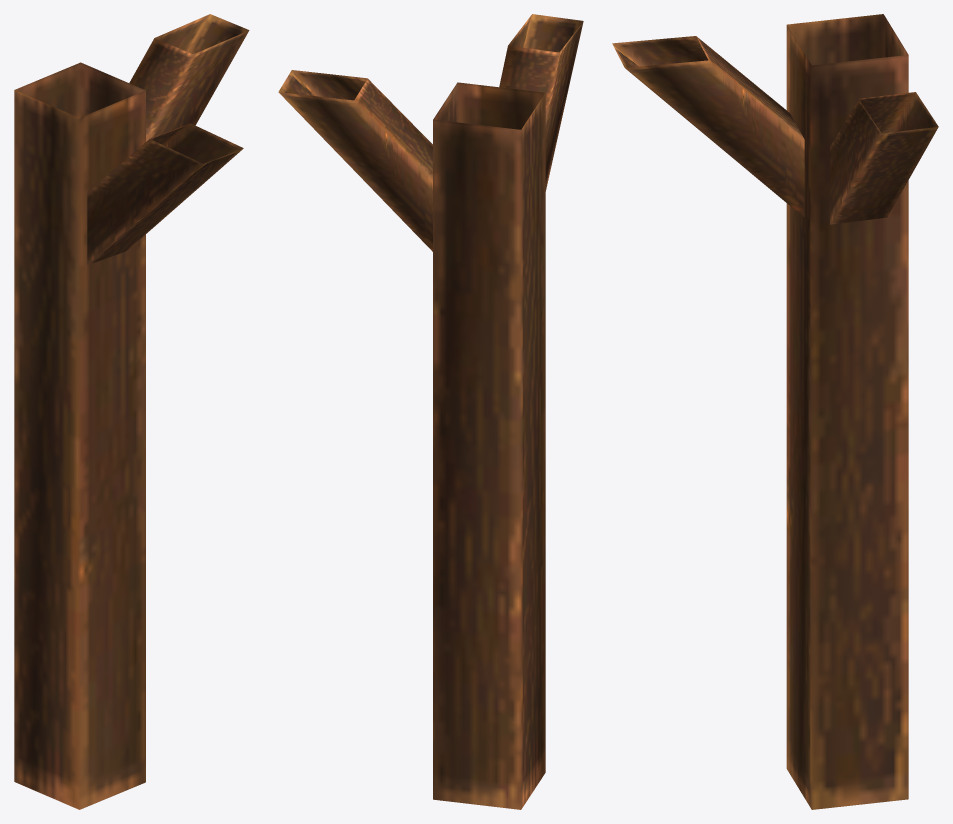
File: SWORDLIGHT20_JAILPLATSUPPORT76.fbx
3 views of the same model, side by side, from view 1: azimuth 30°, elevation 25°; view 2: azimuth 150°, elevation 25°; view 3: azimuth 270°, elevation 25° (orthographic). The views are drawn at different scales.
Visible parts, largest first — view 1: SWORDLIGHT20_JAILPLATSUPPORT76; view 2: SWORDLIGHT20_JAILPLATSUPPORT76; view 3: SWORDLIGHT20_JAILPLATSUPPORT76.
Part boxes in pixels (<box>): SWORDLIGHT20_JAILPLATSUPPORT76: <box>14,14,249,809</box>; SWORDLIGHT20_JAILPLATSUPPORT76: <box>278,14,583,809</box>; SWORDLIGHT20_JAILPLATSUPPORT76: <box>612,14,938,809</box>.
Size of the model in its own units: 11640 by 33013 by 13065.
1 material, 1 textured.
